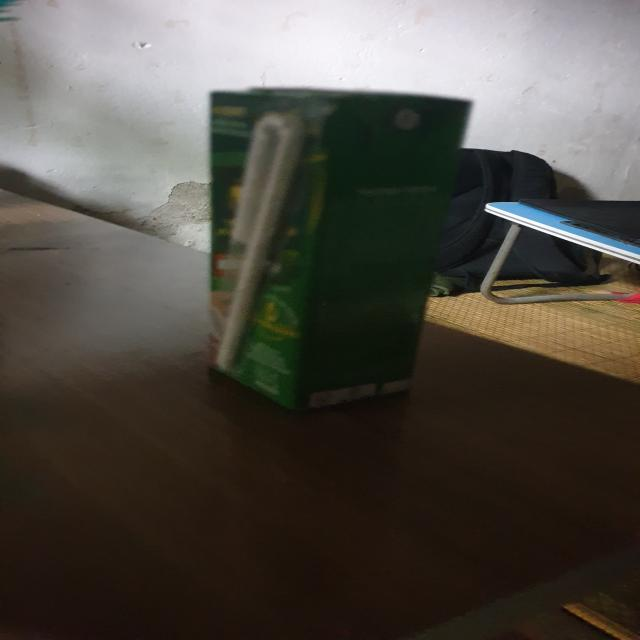Milo: (210, 89, 472, 416)
